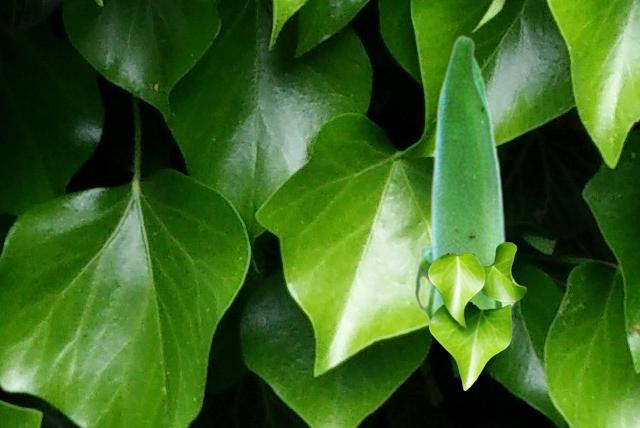okra: (413, 34, 518, 324)
